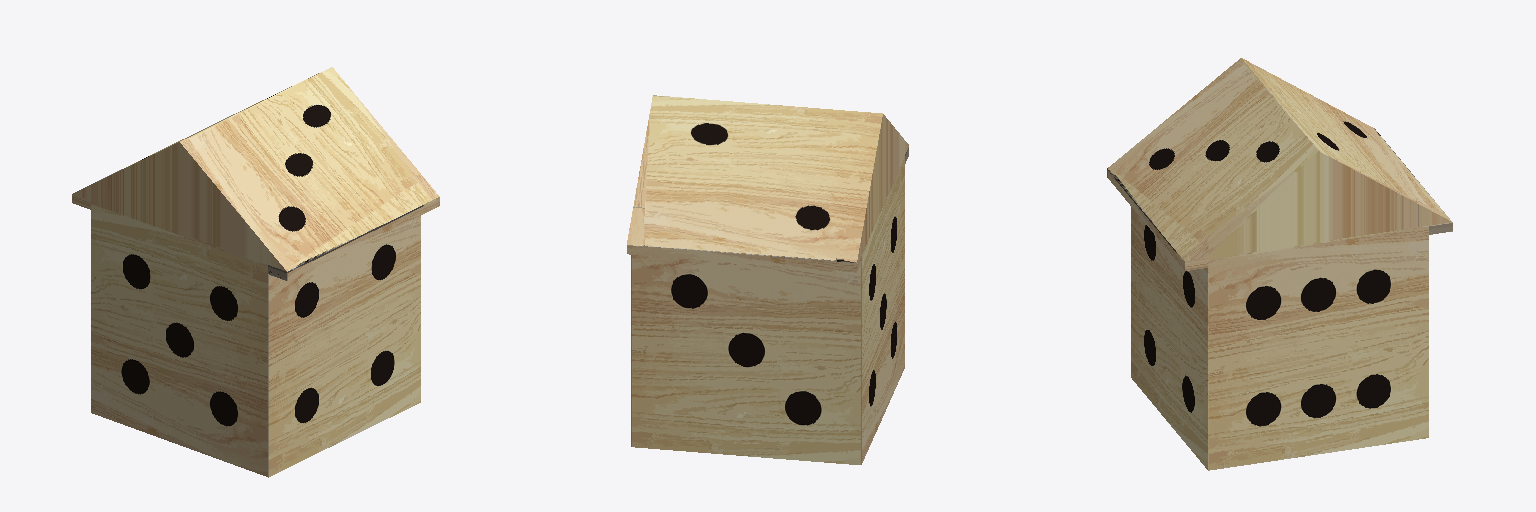
3 renders of one model, left to right at view 1: azimuth 30°, elevation 25°; view 2: azimuth 150°, elevation 25°; view 3: azimuth 270°, elevation 25°, orthographic.
Visible parts, largest first — view 1: pCube1; view 2: pCube1; view 3: pCube1.
Part boxes in pixels (left/top/right/bottom): pCube1: left=72, top=67, right=439, bottom=477; pCube1: left=627, top=95, right=908, bottom=464; pCube1: left=1107, top=58, right=1452, bottom=470.
Size of the model in its own units: 15.69 by 16.68 by 17.19.
1 materials, 1 textured.